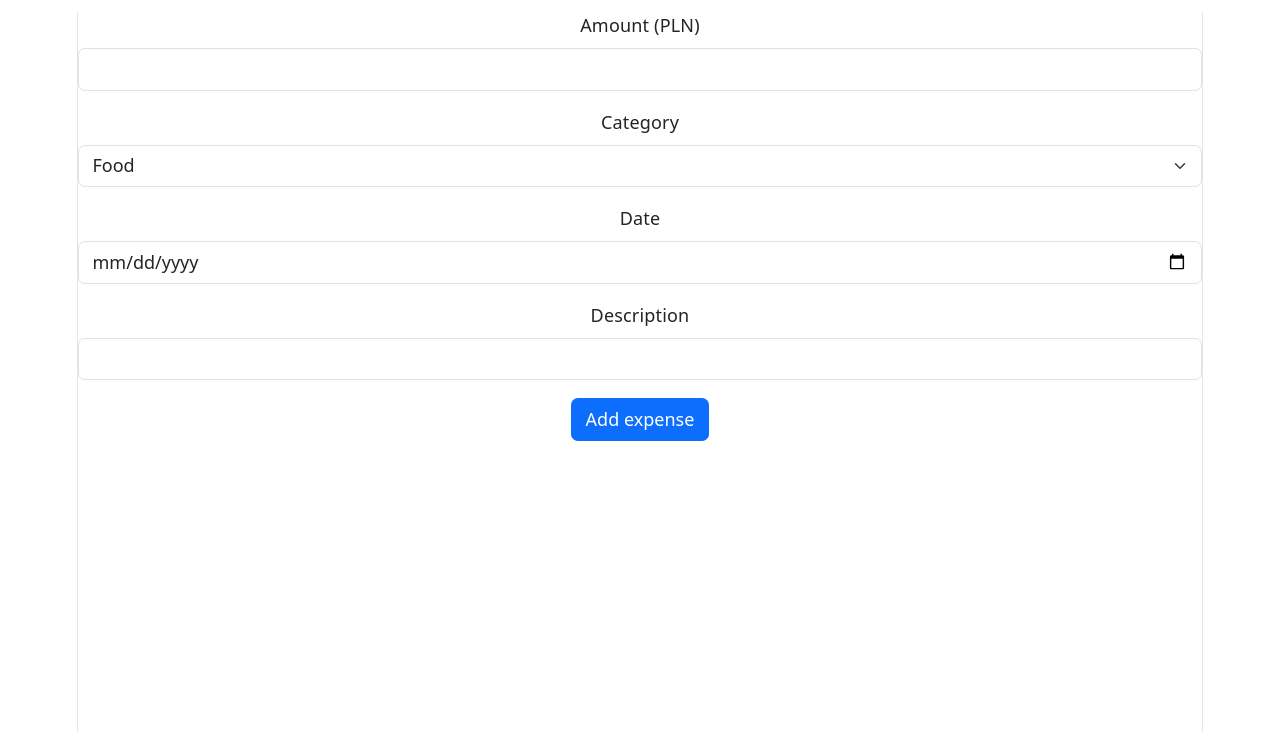
Test: ExpenseForm › shows error when date is in the future
The image size is (1280, 732).
Type "50" into the number field at (640, 69), box [78,48,1202,90]
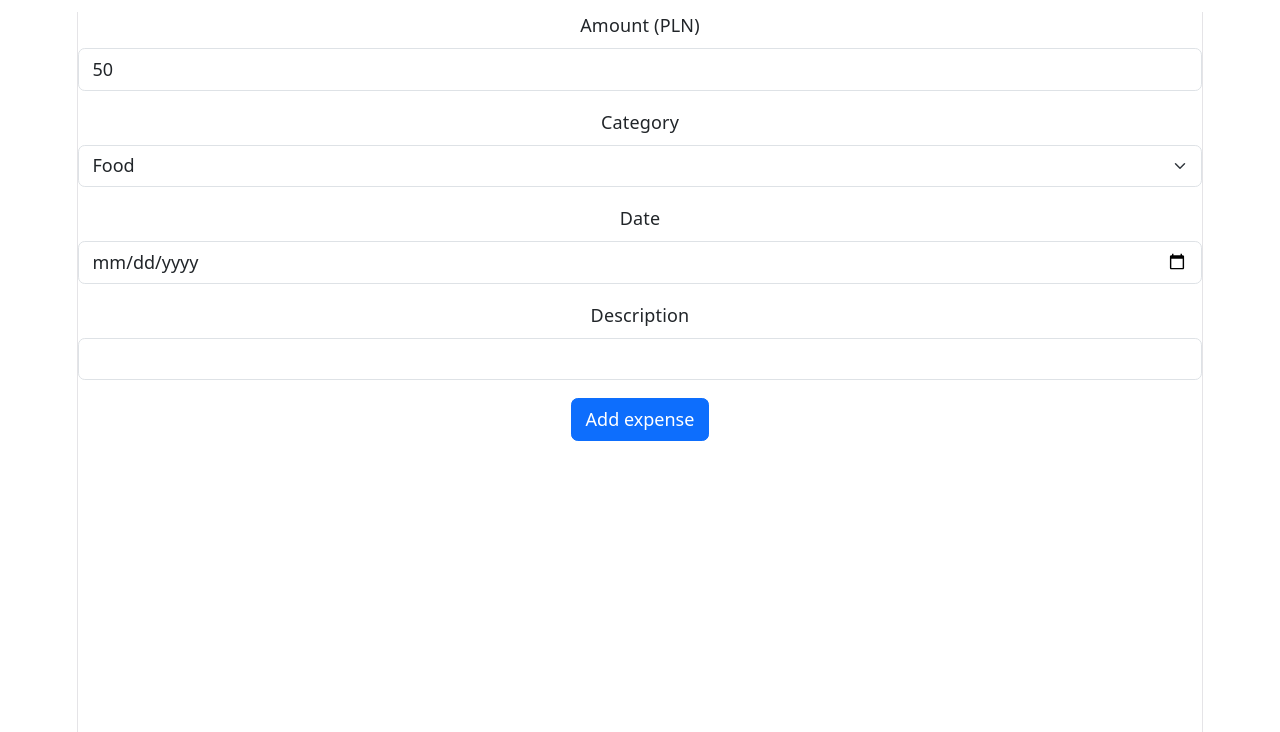
Type "2099-01-01" into the date field at (640, 262), box [78,241,1202,284]
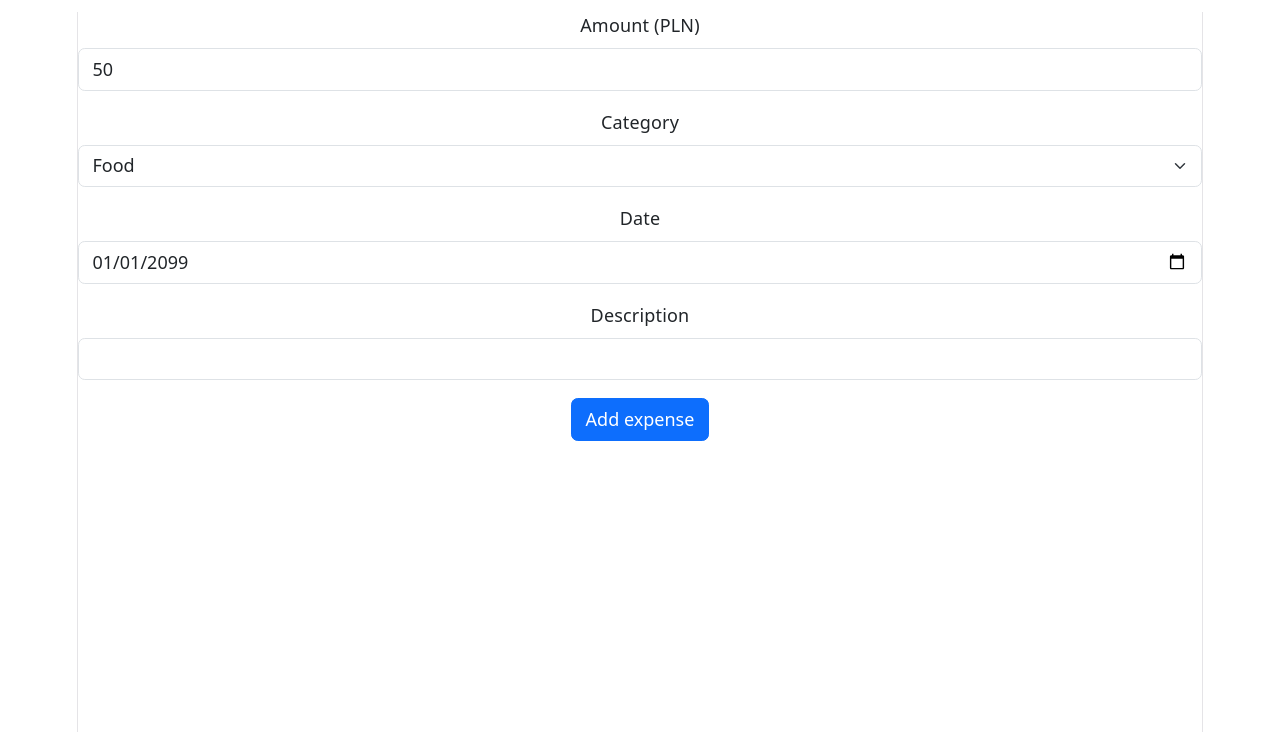
Type "test" into the field at (640, 359), box [78,338,1202,380]
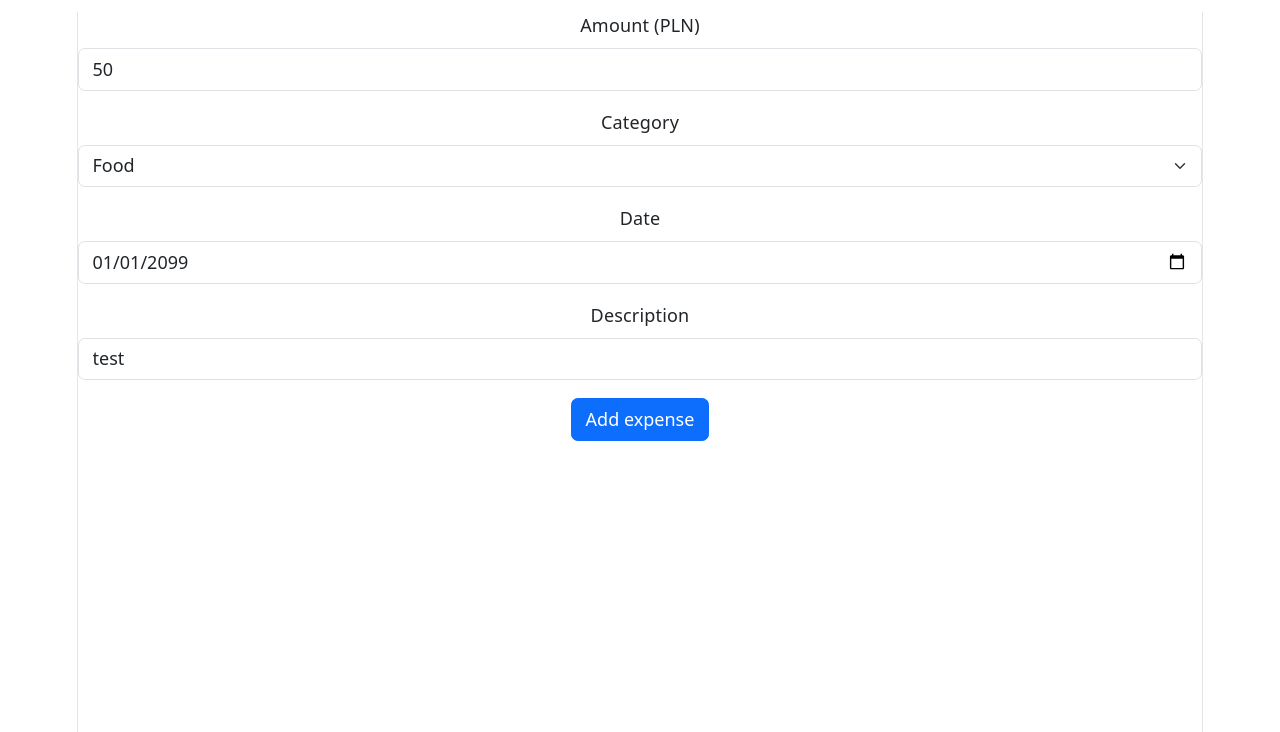
Click the button "Add expense" at (640, 419), box [571,398,709,440]
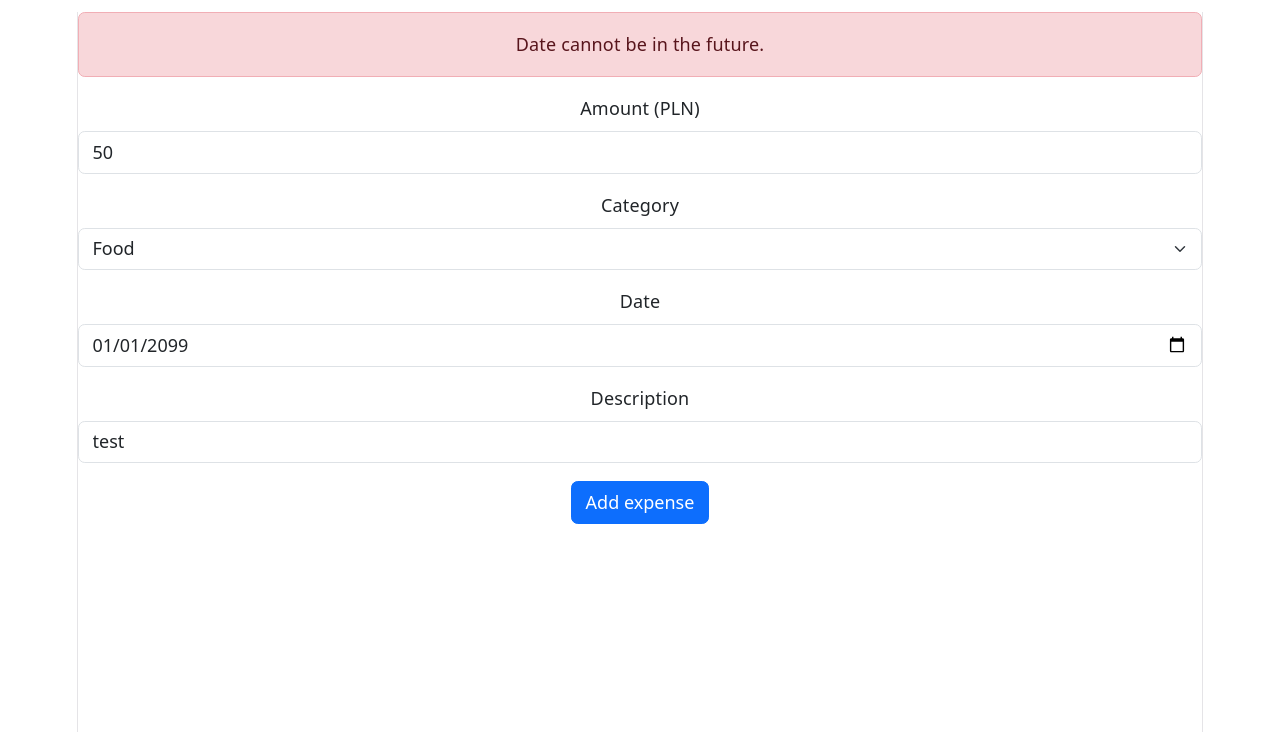
Expected: the text "Date cannot be in the future." is shown, [78,12,1202,77]
